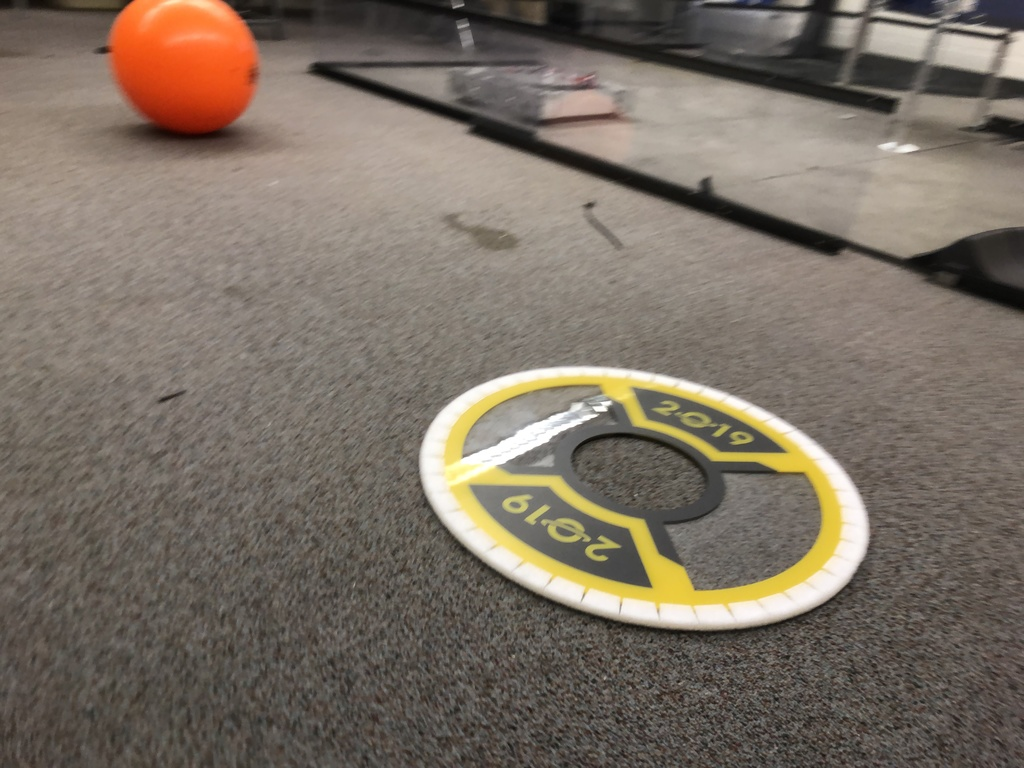hatch_panel: (409, 354, 918, 646)
